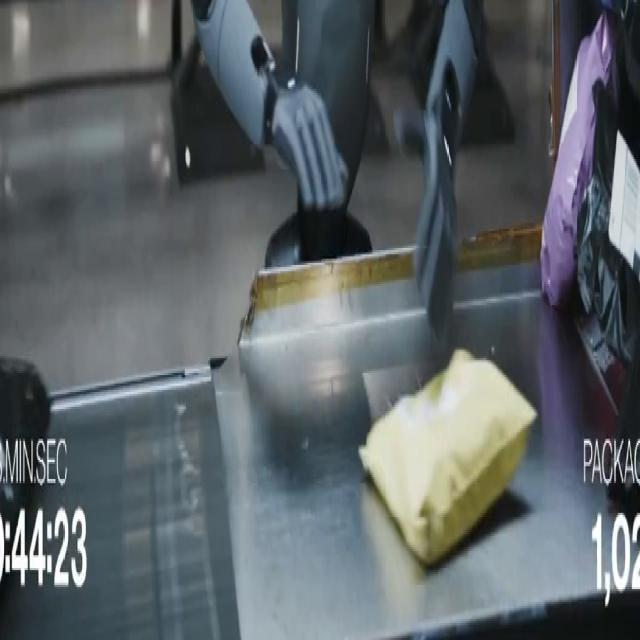package: (360, 350, 536, 565), (541, 13, 615, 307), (577, 83, 639, 364), (0, 359, 50, 536), (603, 342, 639, 512)
